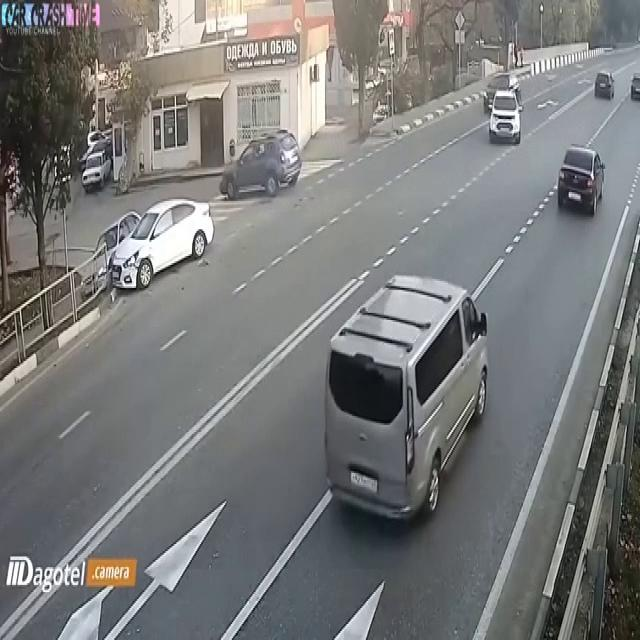accident: (76, 176, 202, 320)
